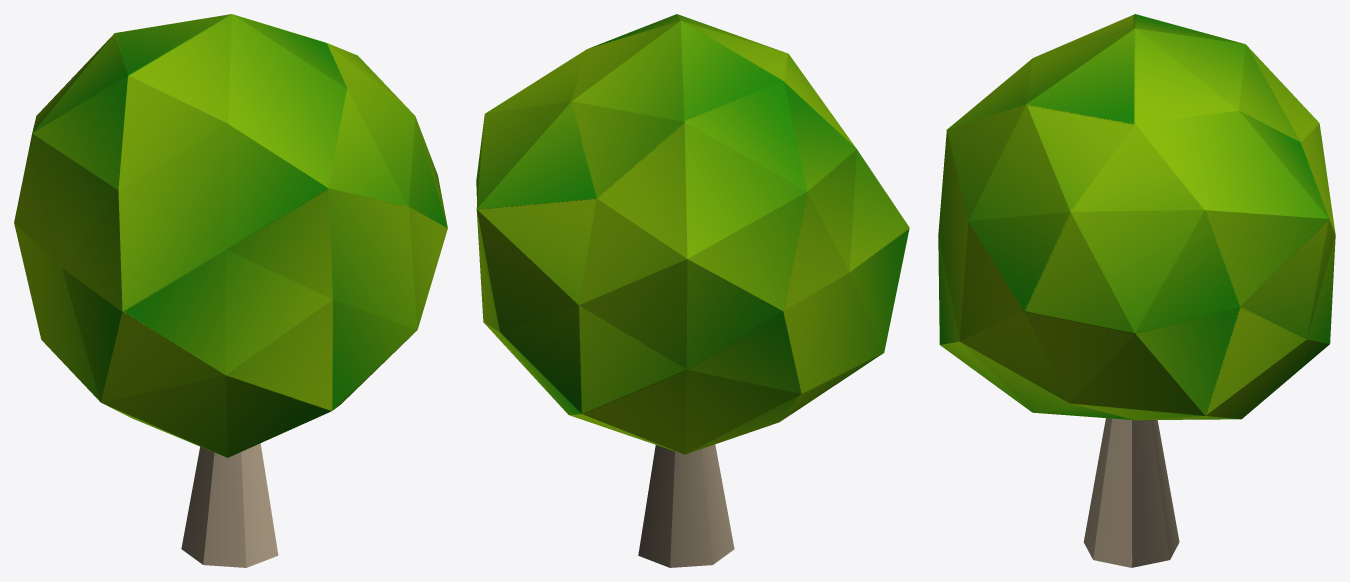
Rendered from laubbaum3_final.fbx.
The picture shows the model from 3 angles, left to right: view 1: azimuth 30°, elevation 25°; view 2: azimuth 150°, elevation 25°; view 3: azimuth 270°, elevation 25°; orthographic projection. The views are drawn at different scales.
Visible parts, largest first — view 1: laubbaum3_final_1; view 2: laubbaum3_final_1; view 3: laubbaum3_final_1.
Boxes of the visible parts, x1,y1,x2,y2 form: laubbaum3_final_1: (14, 14, 447, 567); laubbaum3_final_1: (476, 14, 909, 567); laubbaum3_final_1: (938, 14, 1335, 567).
Size of the model in its own units: 547 by 739 by 512.
